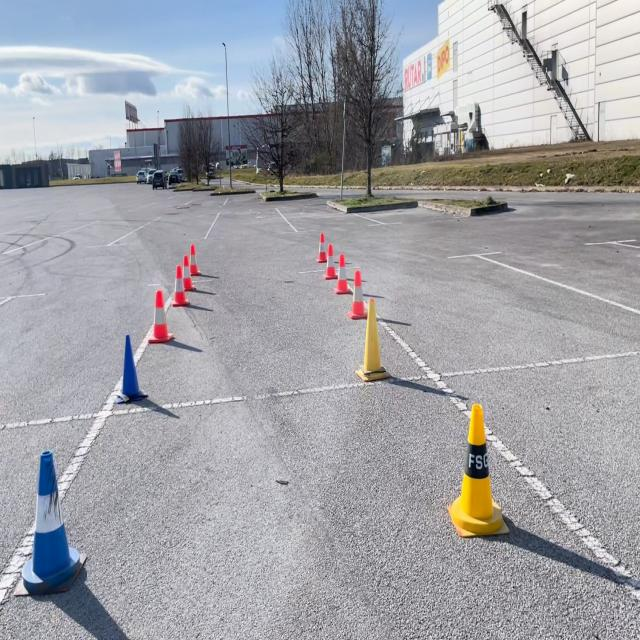blue_cone: (13, 449, 90, 597), (115, 334, 148, 405)
orange_cone: (148, 289, 174, 343), (347, 268, 368, 320), (334, 253, 353, 295), (172, 266, 189, 305), (324, 244, 339, 279), (182, 252, 195, 290), (315, 233, 328, 264), (190, 243, 200, 275)
yellow_cone: (443, 401, 509, 537), (354, 298, 393, 382)
